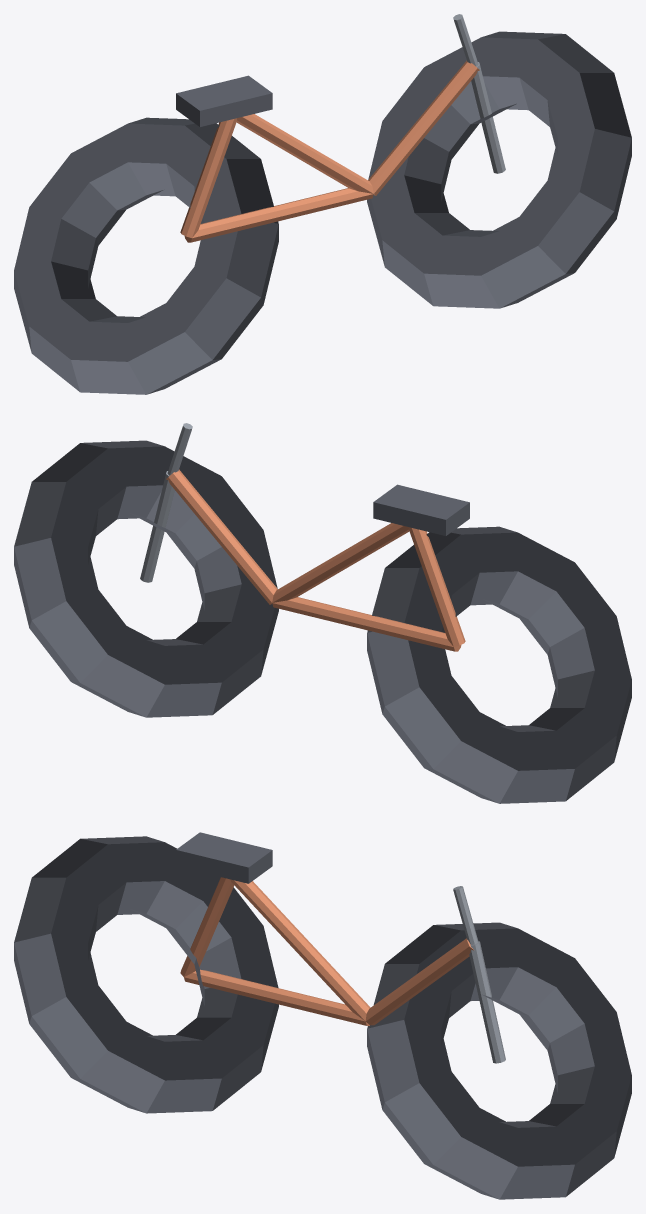
3 renders of one model, top to bottom at view 1: azimuth 30°, elevation 25°; view 2: azimuth 150°, elevation 25°; view 3: azimuth 330°, elevation 25°, orthographic.
Parts seen in each view (by area): view 1: Wheel.B, Wheel.F, Seat, Frame.Low, Frame.Front, Frame.Diagonal, Frame.Seat, Fork, Handle; view 2: Wheel.B, Wheel.F, Seat, Frame.Low, Frame.Front, Frame.Diagonal, Frame.Seat, Fork, Handle; view 3: Wheel.F, Wheel.B, Seat, Frame.Diagonal, Frame.Low, Frame.Front, Fork, Frame.Seat, Handle.
Part boxes in pixels (x1,y1,x2,y2): Wheel.B: [14, 117, 278, 394]; Wheel.F: [367, 31, 631, 308]; Seat: [176, 75, 272, 126]; Frame.Low: [184, 188, 373, 242]; Frame.Front: [368, 60, 479, 195]; Frame.Diagonal: [236, 114, 373, 193]; Frame.Seat: [180, 118, 236, 237]; Fork: [471, 62, 505, 173]; Handle: [453, 14, 478, 66]; Wheel.B: [367, 526, 631, 803]; Wheel.F: [14, 440, 278, 717]; Seat: [373, 484, 469, 535]; Frame.Low: [272, 597, 461, 651]; Frame.Front: [166, 469, 277, 604]; Frame.Diagonal: [272, 523, 409, 602]; Frame.Seat: [409, 527, 465, 646]; Fork: [140, 471, 174, 582]; Handle: [167, 423, 192, 475]; Wheel.F: [367, 922, 631, 1199]; Wheel.B: [14, 836, 278, 1113]; Seat: [176, 832, 272, 883]; Frame.Diagonal: [230, 879, 370, 1021]; Frame.Low: [184, 969, 369, 1025]; Frame.Front: [365, 938, 473, 1025]; Fork: [469, 941, 505, 1063]; Frame.Seat: [180, 877, 234, 976]; Handle: [453, 886, 478, 945].
Bounding box in the file's own units: 2.38 × 1.12 × 0.2473.
